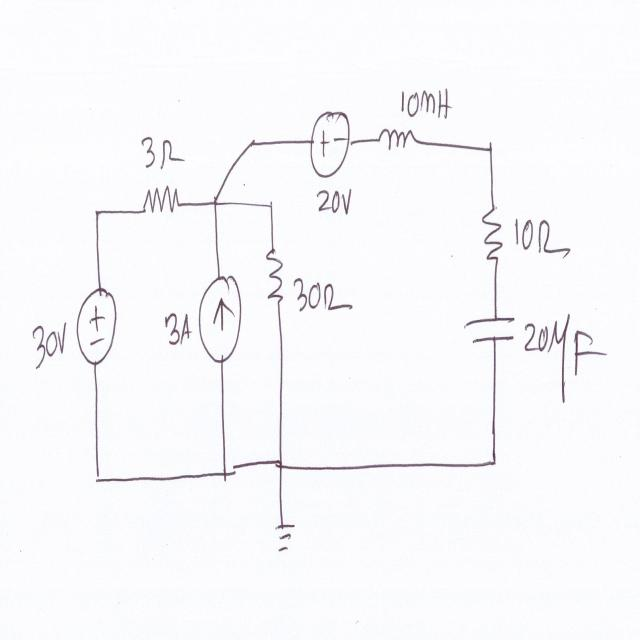capacitor: (464, 310, 520, 350)
current_source: (196, 268, 244, 371)
ground: (272, 515, 300, 569)
inductor: (374, 124, 418, 159)
resistor: (136, 180, 186, 223), (264, 234, 289, 315), (478, 200, 504, 270)
voltage_source: (72, 276, 119, 376), (304, 103, 361, 180)
